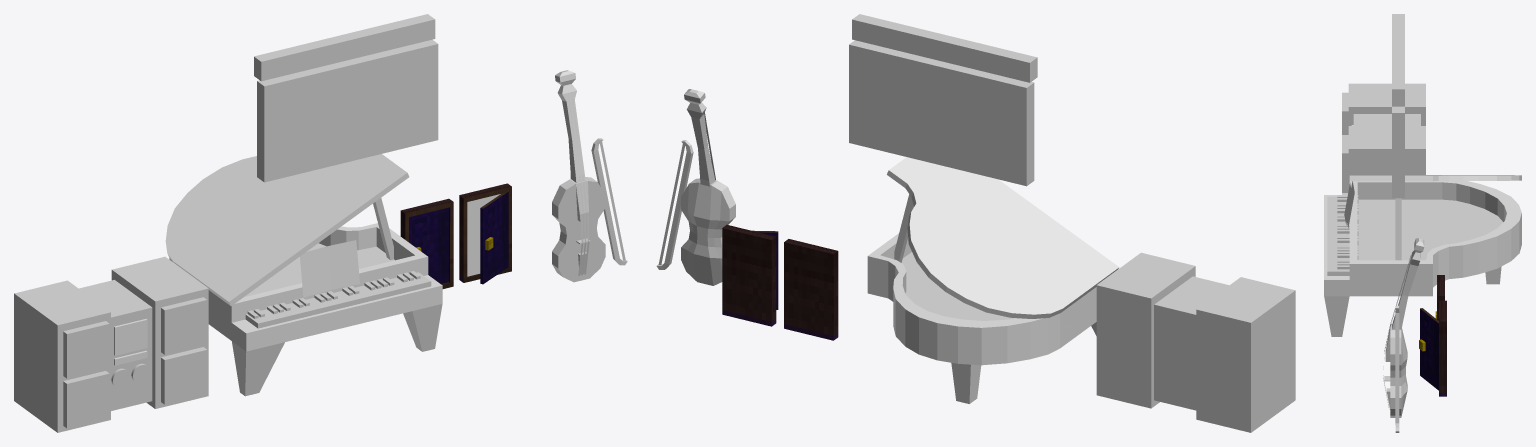
The model's file is Sleepy_AssetPack_2-10.fbx.
The picture shows the model from 3 angles, left to right: view 1: azimuth 30°, elevation 25°; view 2: azimuth 150°, elevation 25°; view 3: azimuth 270°, elevation 25°; orthographic projection. The views are drawn at different scales.
Visible parts, largest first — view 1: Cube.011, Cube.012, Cube.004, Cube.013, Cube.010, Cube.003, Cube.002, Cube.019; view 2: Cube.011, Cube.012, Cube.004, Cube.013, Cube.010, Cube.002, Cube.003; view 3: Cube.011, Cube.012, Cube.013, Cube.019, Cube.004, Cube.010, Cube.002, Cube.003.
Part boxes in pixels (box(x1,y1,x2,y2)): Cube.011: box(165, 154, 442, 396); Cube.012: box(14, 256, 208, 432); Cube.004: box(257, 39, 438, 182); Cube.013: box(552, 70, 627, 282); Cube.010: box(254, 14, 435, 81); Cube.003: box(400, 198, 453, 288); Cube.002: box(459, 183, 511, 282); Cube.019: box(480, 192, 508, 284); Cube.011: box(867, 157, 1119, 403); Cube.012: box(1096, 252, 1295, 432); Cube.004: box(849, 40, 1034, 186); Cube.013: box(656, 89, 735, 285); Cube.010: box(852, 14, 1037, 82); Cube.002: box(722, 225, 776, 326); Cube.003: box(784, 239, 838, 340); Cube.011: box(1324, 175, 1521, 336); Cube.012: box(1342, 83, 1425, 194); Cube.013: box(1383, 238, 1424, 432); Cube.019: box(1419, 308, 1438, 390); Cube.004: box(1392, 106, 1404, 198); Cube.010: box(1392, 14, 1404, 106); Cube.002: box(1439, 300, 1446, 396); Cube.003: box(1435, 275, 1444, 320).
Size of the model in its own units: 5805 by 2768 by 1881.
